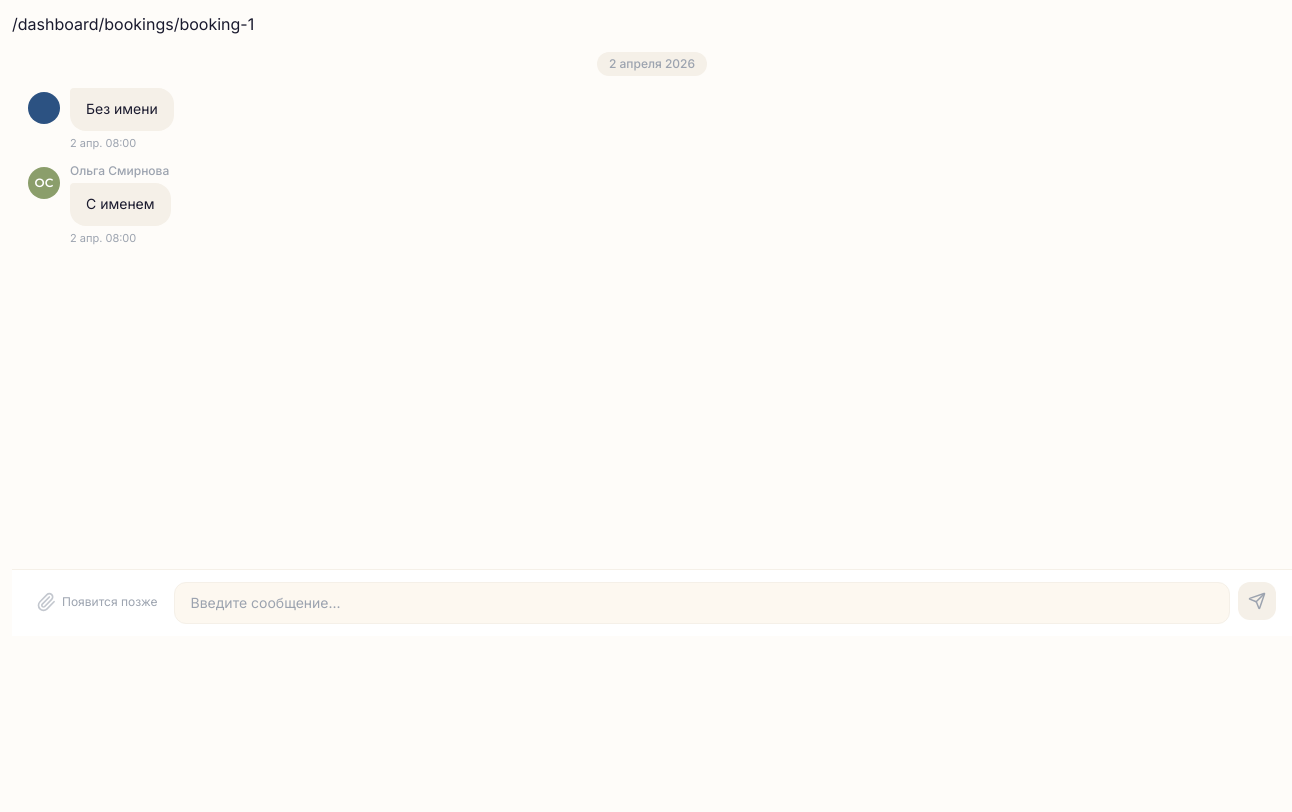
Scenario: ChatWindow names and pointer › ТК-6 сбой network не подставляет почту и не ломает ленту
Expected: the button "Ольга Смирнова" is shown, top-left (70, 163), bottom-right (171, 179)
Type "Ответ" into the text box with placeholder "Введите сообщение...". click: (702, 603)
box: top-left (174, 582), bottom-right (1230, 624)
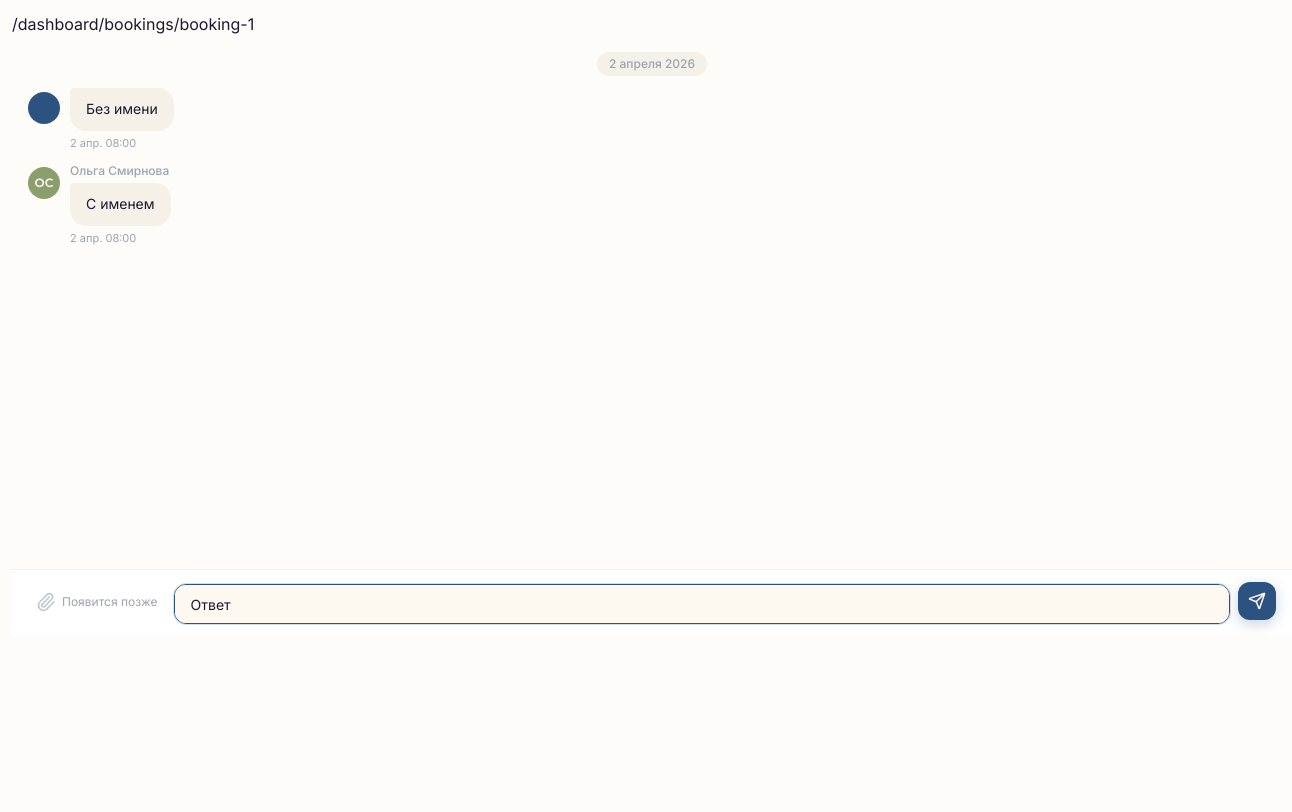
Press Enter
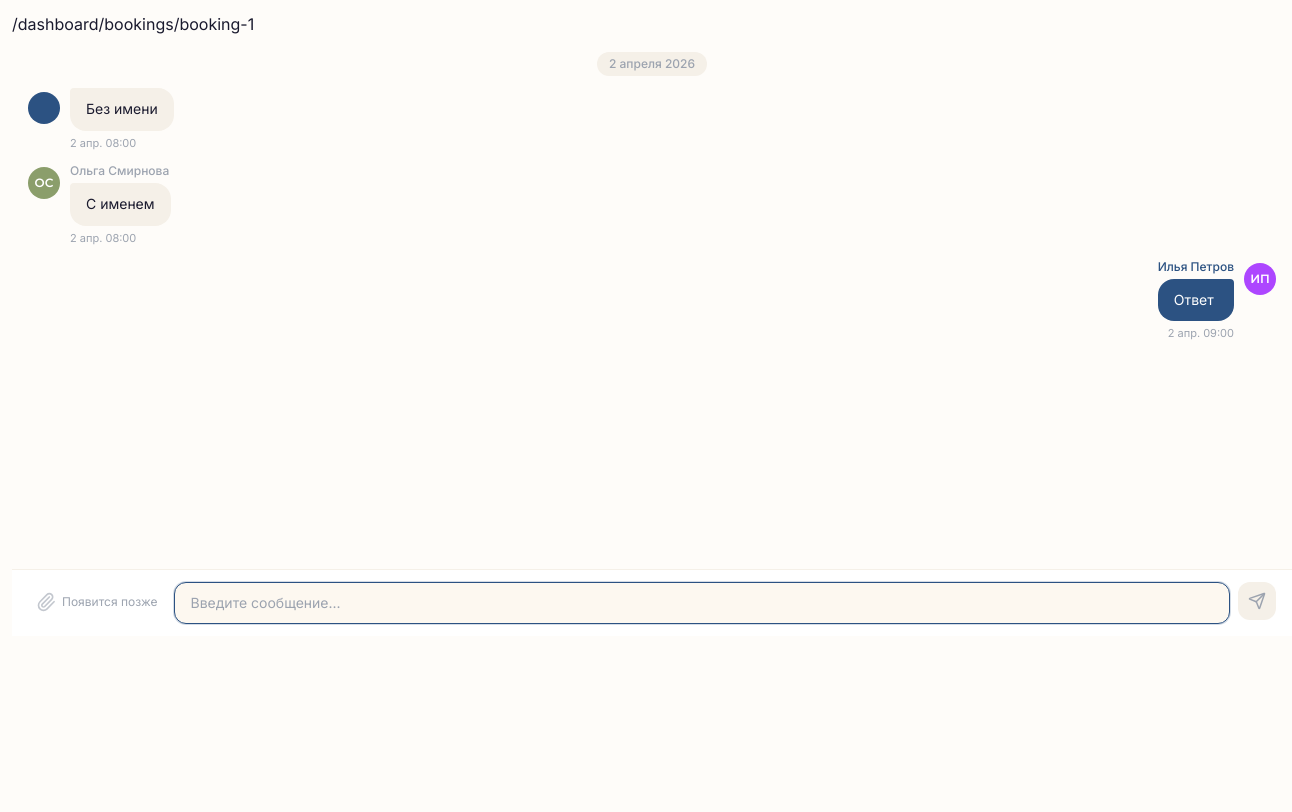
Result: the text "Ответ" is shown at top-left (1158, 278), bottom-right (1234, 321)
Result: the text "Илья Петров" is shown at top-left (1158, 258), bottom-right (1234, 274)
